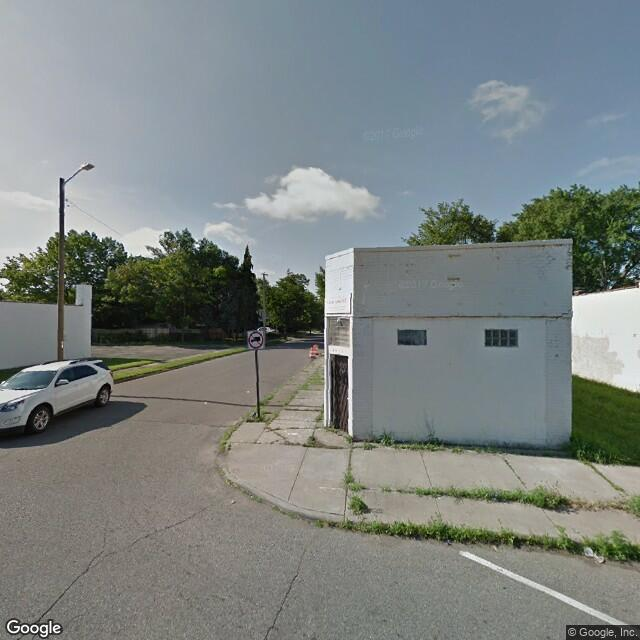litter: (582, 536, 609, 568)
